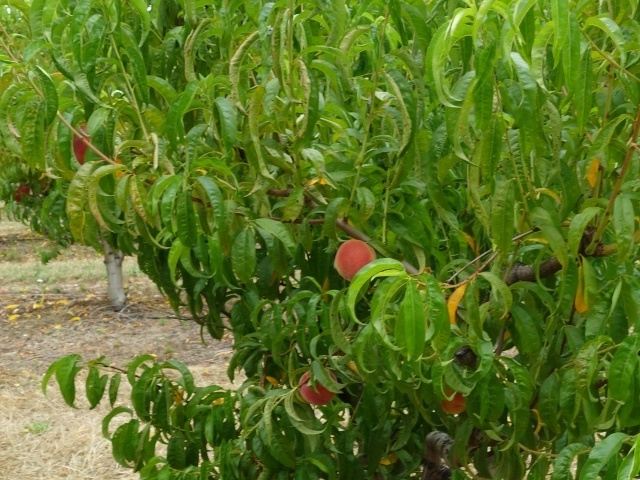peach: (330, 234, 377, 283), (66, 115, 101, 170), (297, 367, 342, 407), (438, 381, 468, 417)
